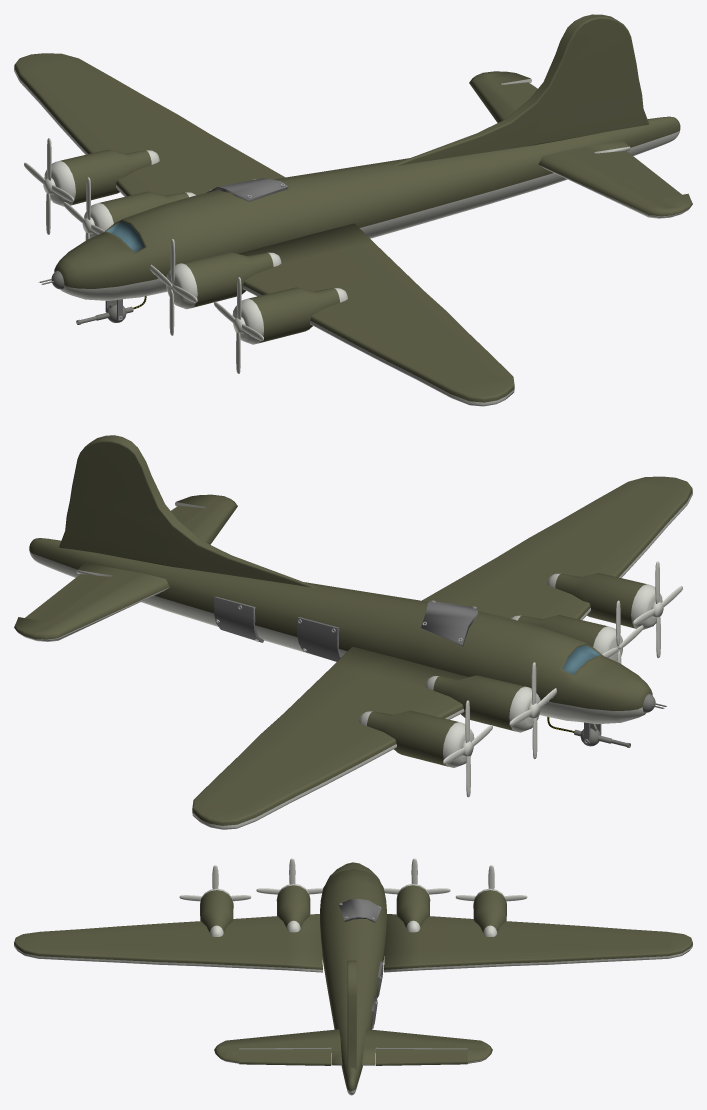
File: Heroplane.fbx
3 renders of one model, top to bottom at view 1: azimuth 30°, elevation 25°; view 2: azimuth 150°, elevation 25°; view 3: azimuth 270°, elevation 25°, orthographic. The views are drawn at different scales.
Visible parts, largest first — view 1: Sphere.002; view 2: Sphere.002; view 3: Sphere.002.
Boxes of the visible parts, bbox=[...] form: Sphere.002: bbox=[14, 14, 692, 406]; Sphere.002: bbox=[14, 435, 692, 829]; Sphere.002: bbox=[14, 858, 692, 1095].
Size of the model in its own units: 659 by 520 by 148.
